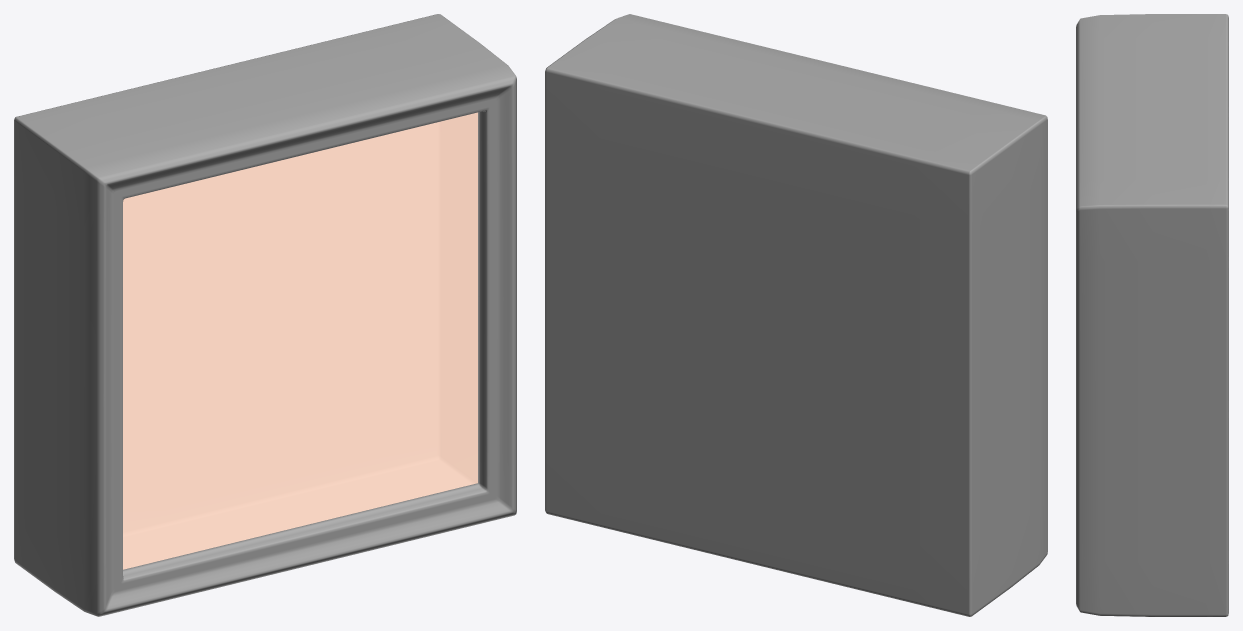
File: Button.fbx
The picture shows the model from 3 angles, left to right: view 1: azimuth 30°, elevation 25°; view 2: azimuth 150°, elevation 25°; view 3: azimuth 270°, elevation 25°; orthographic projection. The views are drawn at different scales.
Parts seen in each view (by area): view 1: pCube10; view 2: pCube10; view 3: pCube10.
Boxes of the visible parts, box(x1,y1,x2,y2) form: pCube10: box(14, 14, 516, 616); pCube10: box(545, 14, 1047, 616); pCube10: box(1076, 14, 1228, 616).
Size of the model in its own units: 14.23 by 14.23 by 4.77.
